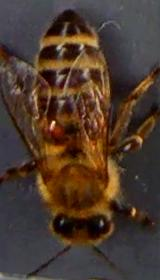varroa_mite: (29, 103, 74, 142)
